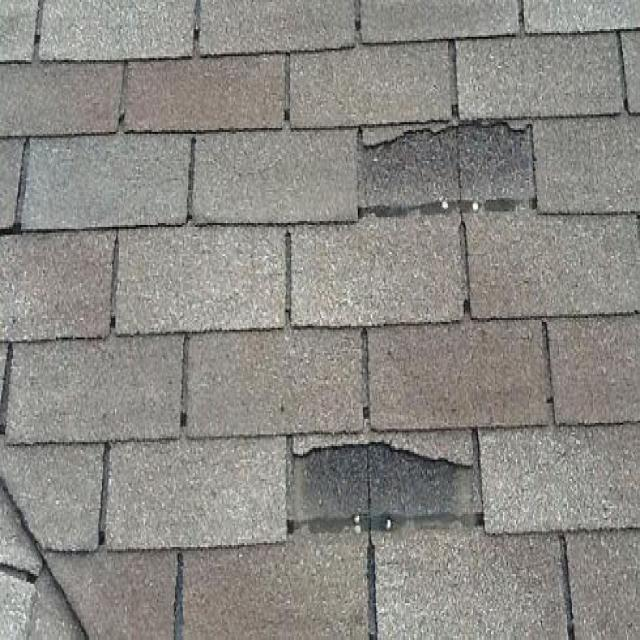damage: (271, 419, 494, 550), (352, 115, 551, 231)
